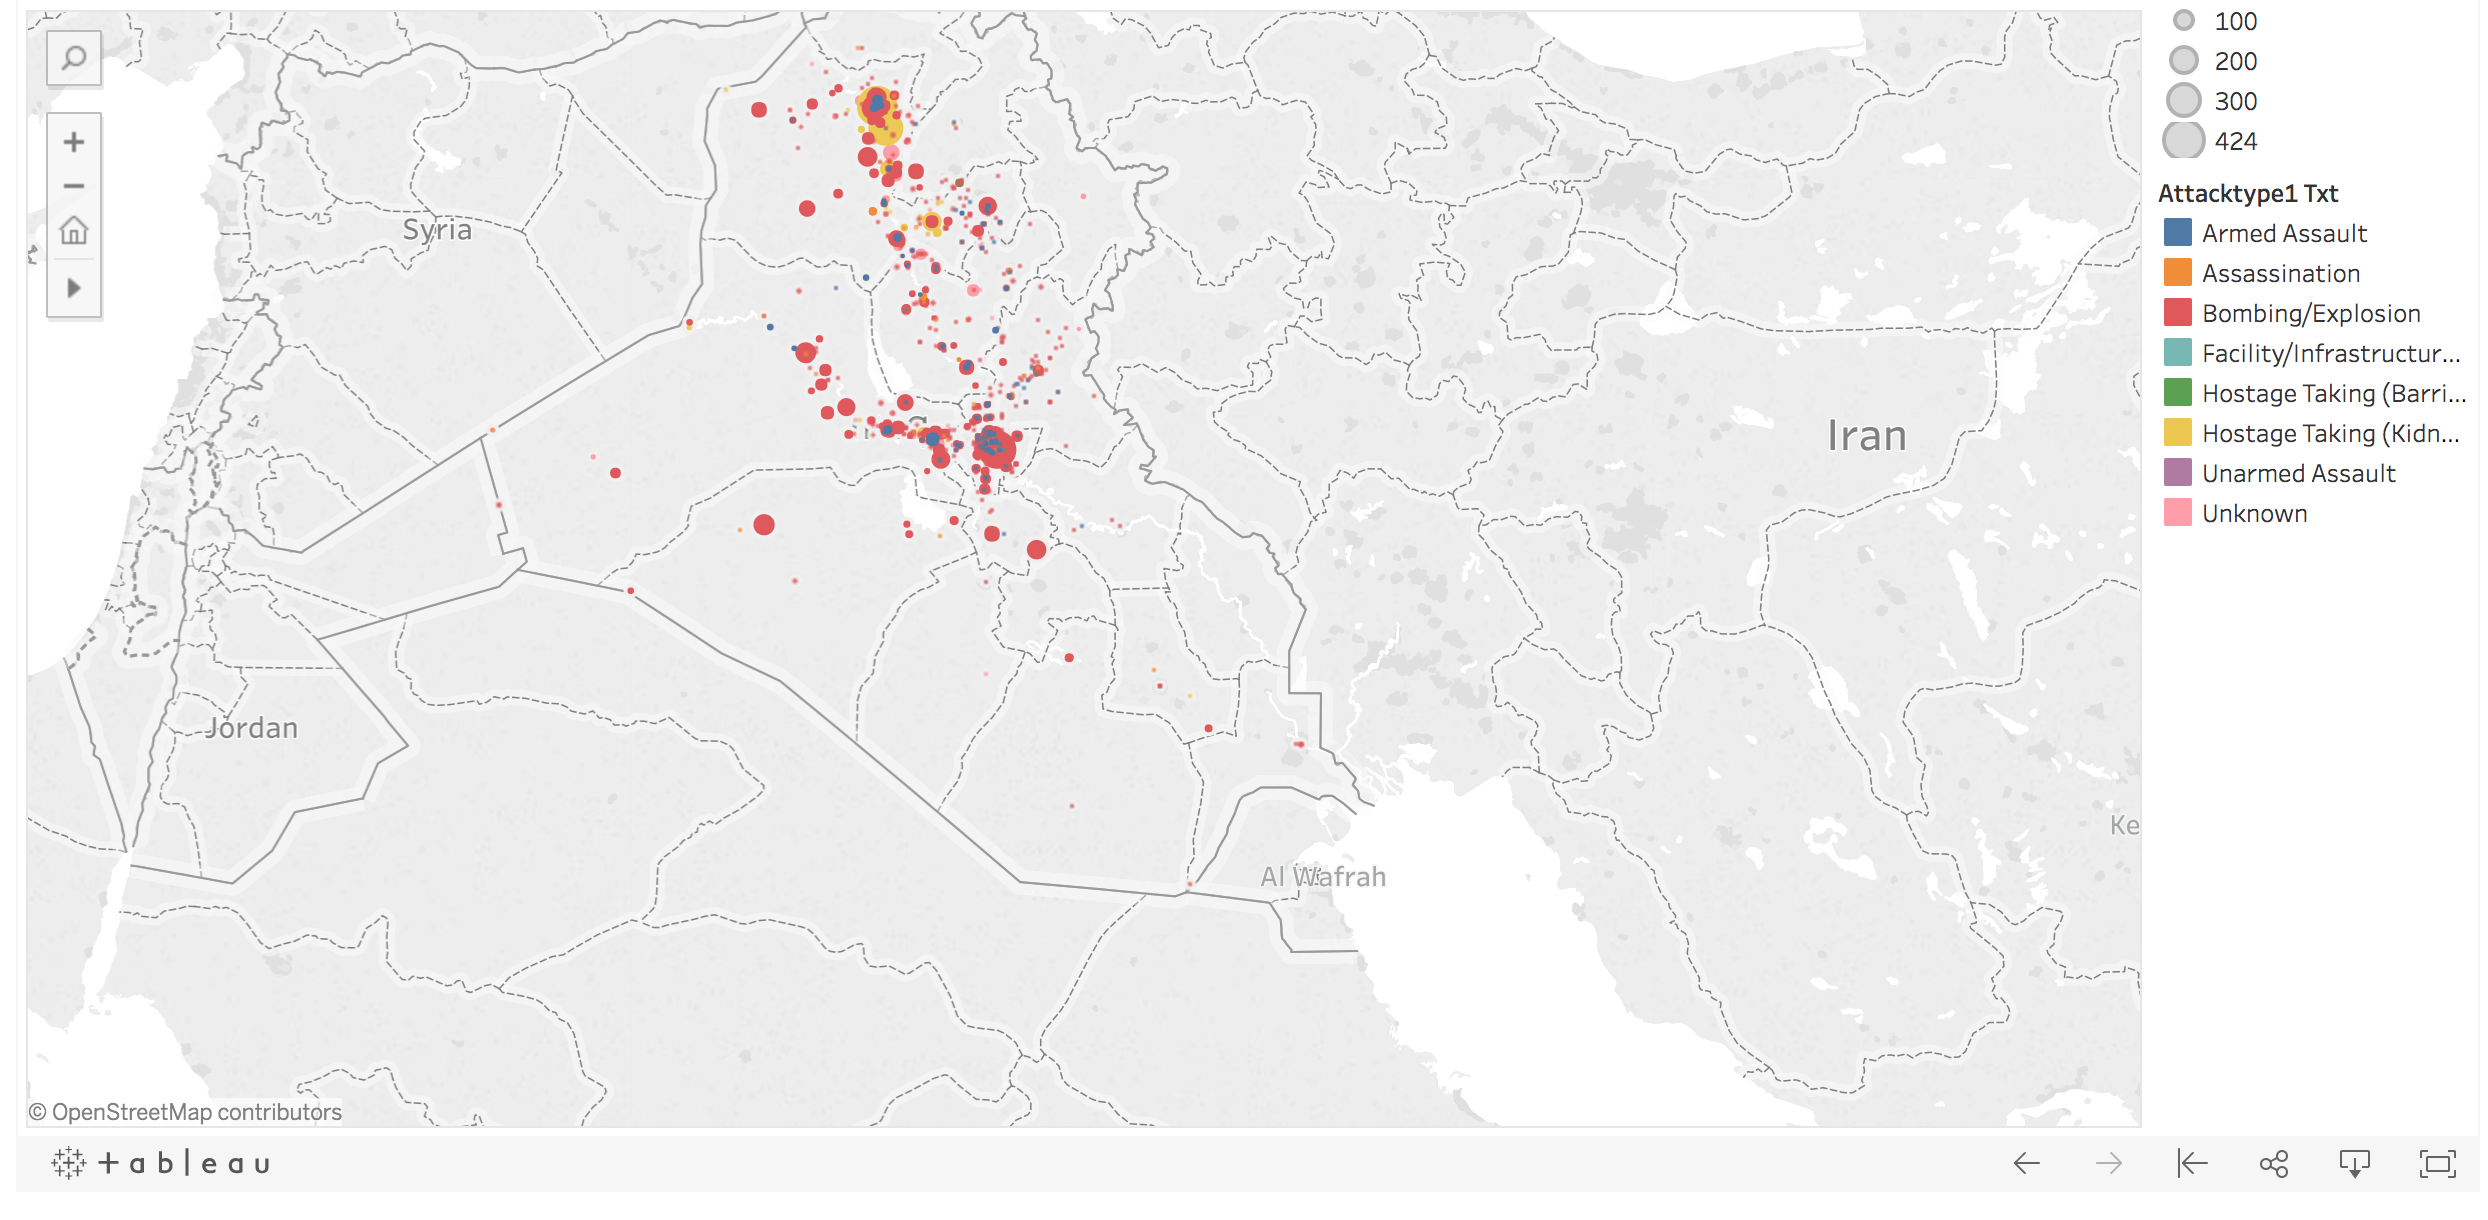

What the dashboard file says about the page in this screenshot:
{"tool":"tableau","page":{"name":"Dashboard 1","canvas":[1000,800],"ordinal":0},"visuals":[{"type":"worksheet","title":"Sheet 2","mark":"Circle","box":[0,0,420,800]},{"type":"worksheet","title":"Sheet 1","mark":"Circle","box":[420,0,420,800]},{"type":"legend","title":"Sheet 2","param":"[federated.04id06k0r0qn6o1epfiiu1t74m8r].[none:country_txt:nk]","box":[840,0,160,710]},{"type":"filter","title":"Sheet 1","param":"[federated.04id06k0r0qn6o1epfiiu1t74m8r].[none:iyear:qk]","box":[840,710,160,69]}]}

Visuals, with their boxes on the page's 1000x800 design canvas (x1, y1, x2, y2). These are canvas units, not pixel positions in the 2488x1220 screenshot, which may show the page scaled, cropped or inside an application window:
"Sheet 2" worksheet (Circle marks): (0, 0, 420, 800)
"Sheet 1" worksheet (Circle marks): (420, 0, 840, 800)
"Sheet 2" legend: (840, 0, 1000, 710)
"Sheet 1" filter: (840, 710, 1000, 779)
